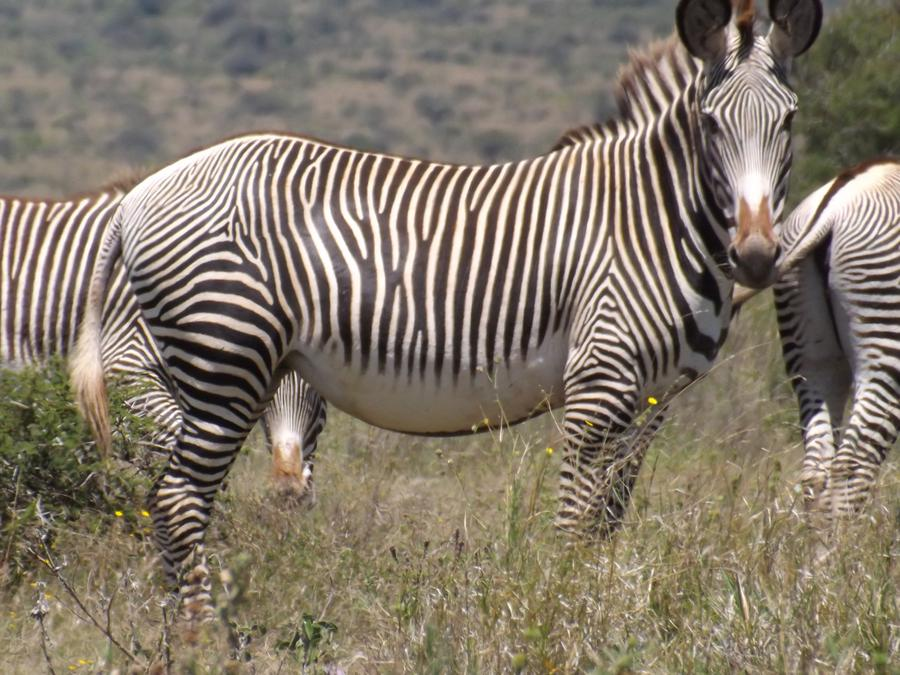zebra_grevys: (116, 123, 670, 402)
